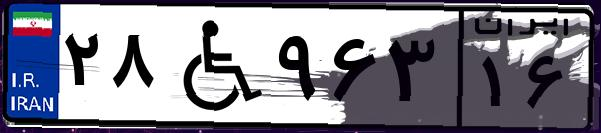1: (475, 38, 525, 113)
2: (57, 26, 110, 100)
3: (385, 28, 445, 110)
6: (330, 28, 385, 110), (525, 38, 570, 115)
8: (110, 28, 158, 98)
9: (270, 28, 330, 110)
ژ (معلولین و جانبازان): (158, 12, 270, 120)
